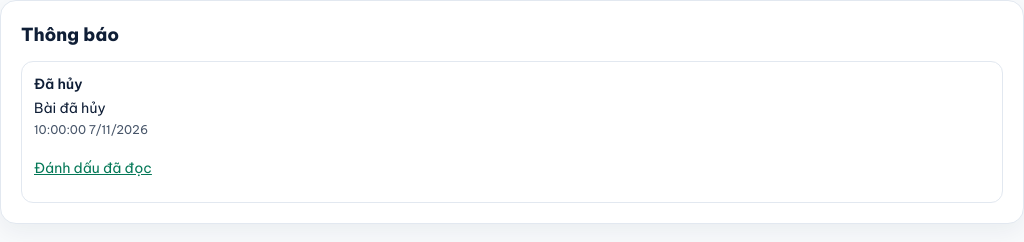
Test case: student cancellation inbox › reads a durable notice and marks only the selected notice read
Click the button "Đánh dấu đã đọc": (93, 168) [34,146,152,190]
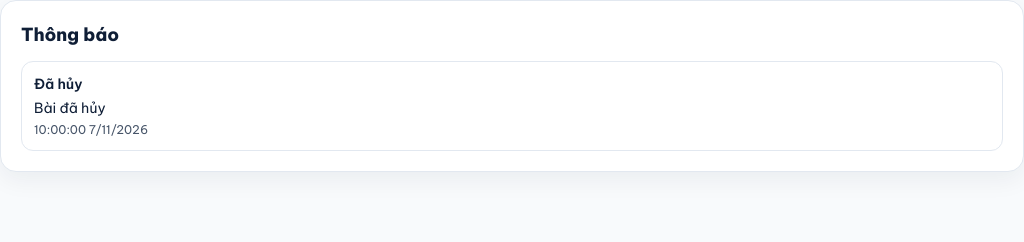
expect the text "Đánh dấu đã đọc" is gone: met
